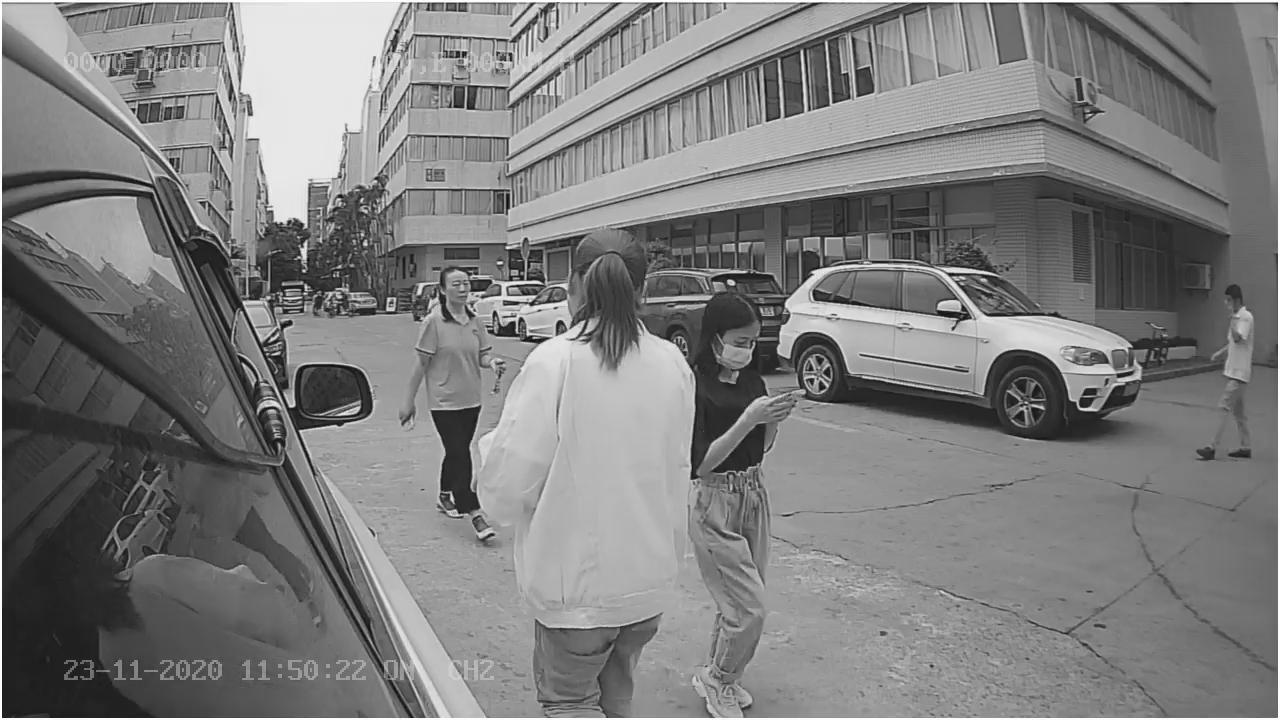person: (676, 294, 806, 711), (385, 237, 495, 546), (1190, 274, 1263, 461)
